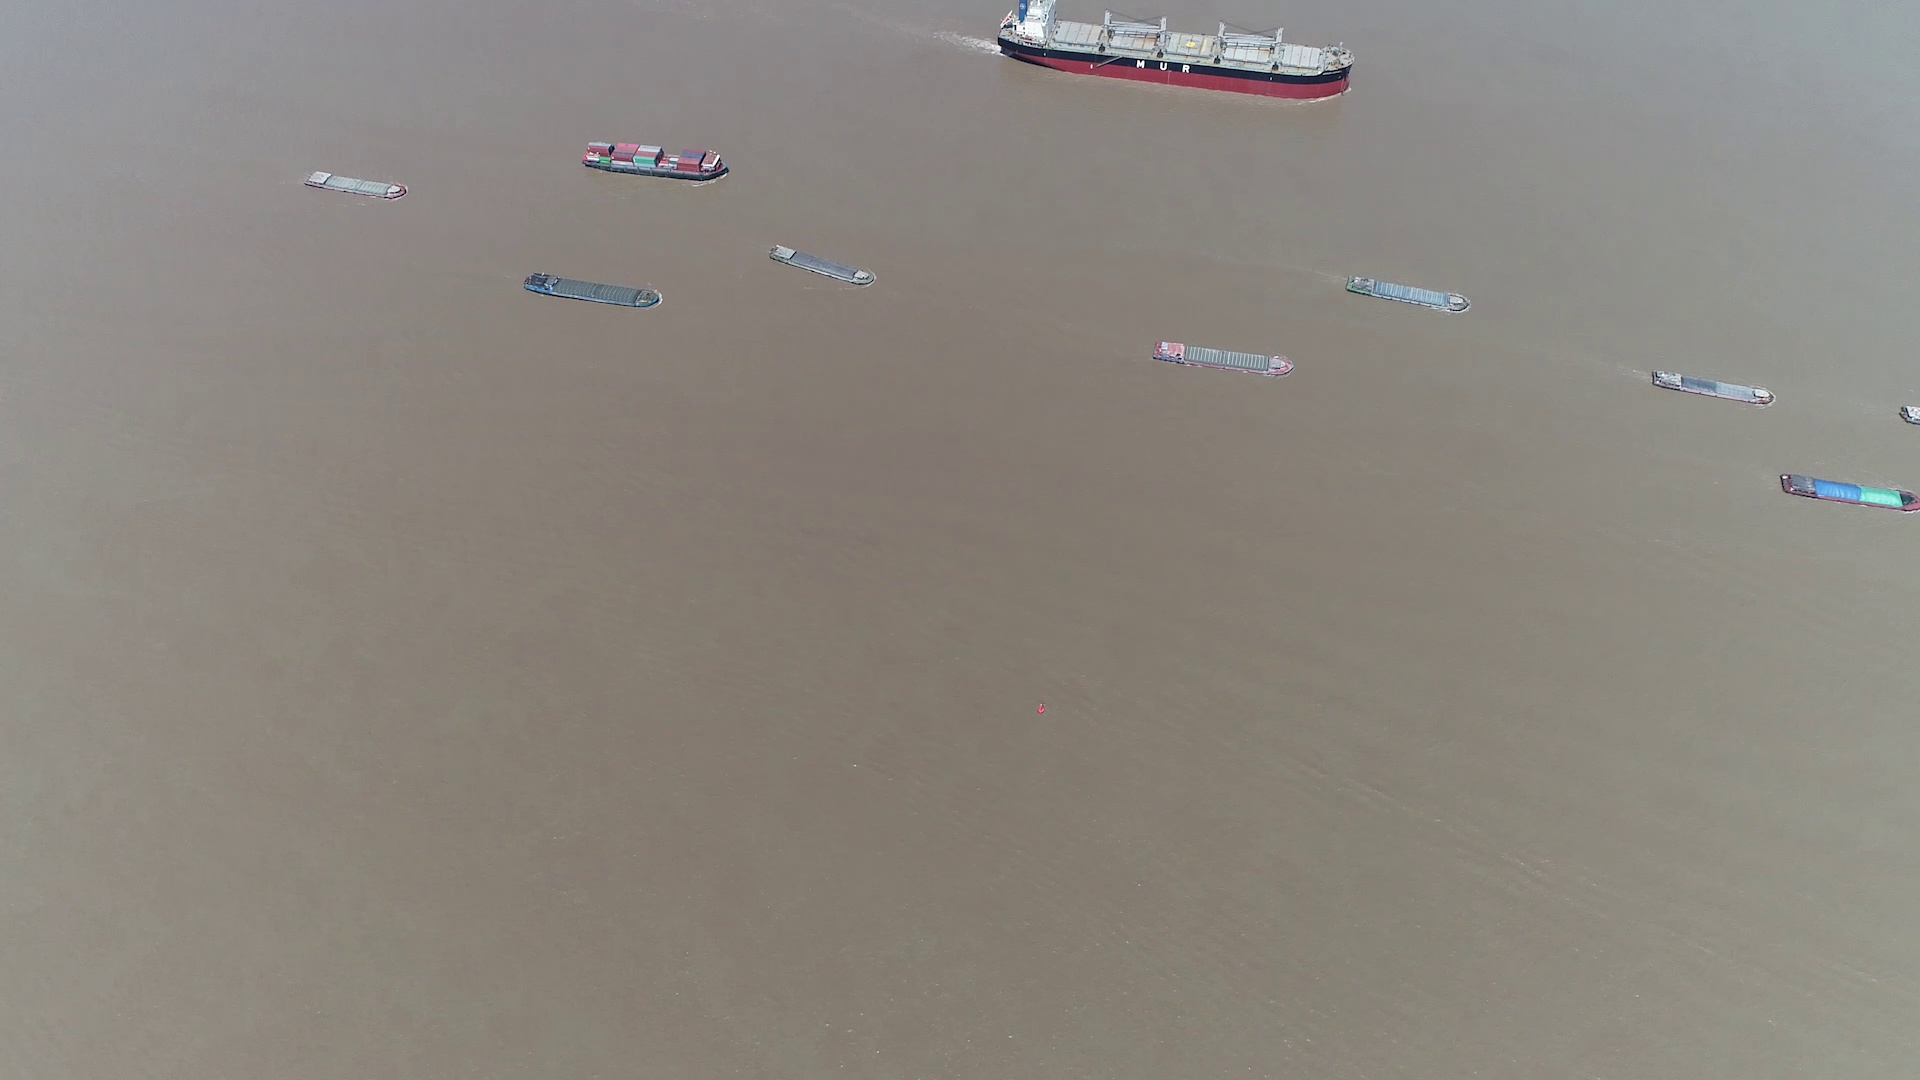ship: (1000, 0, 1352, 98), (1778, 471, 1919, 514), (582, 140, 729, 179), (1153, 338, 1291, 376), (524, 273, 662, 309), (1346, 273, 1470, 313), (769, 243, 877, 287), (1648, 368, 1772, 405), (305, 169, 406, 198)
